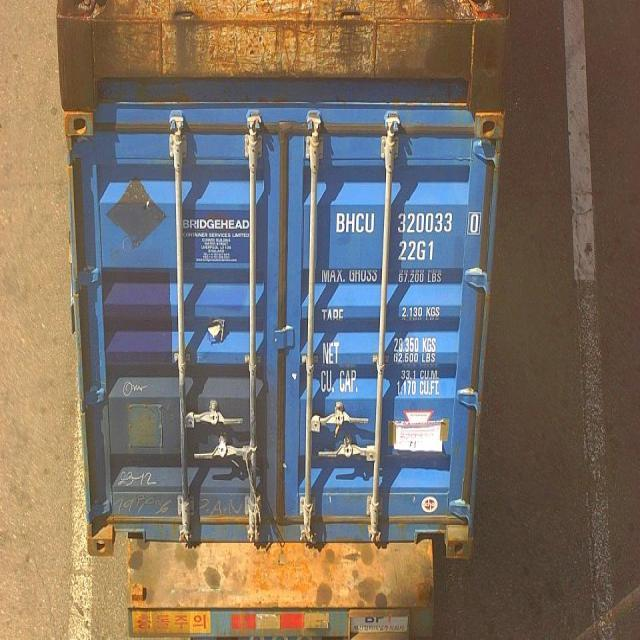ISO: (398, 241, 436, 261)
container_number: (337, 211, 482, 236)
